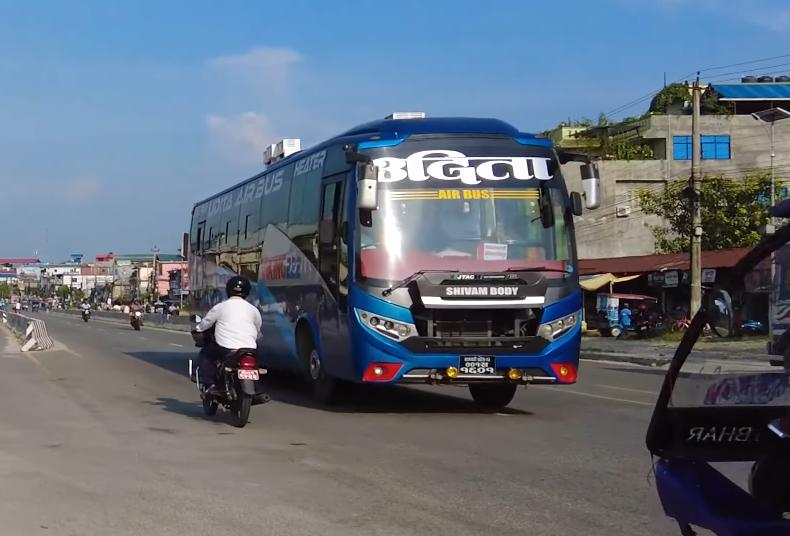bike: (188, 316, 270, 427)
bus: (167, 94, 609, 414)
